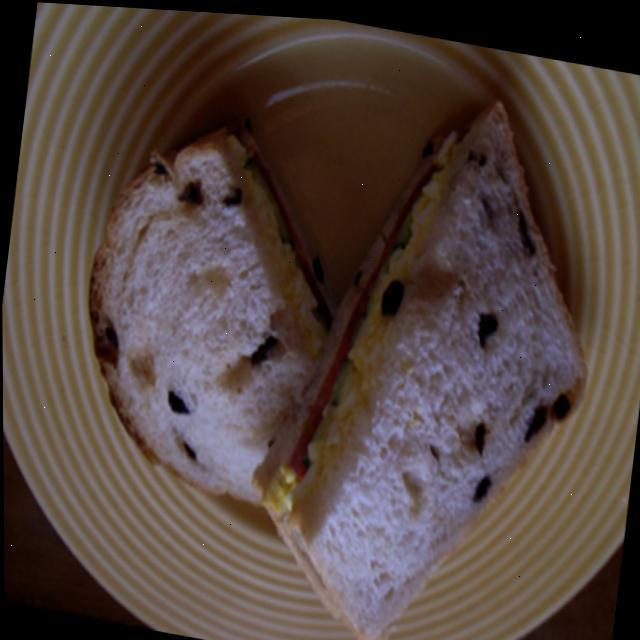面包点心: (36, 28, 598, 640)
